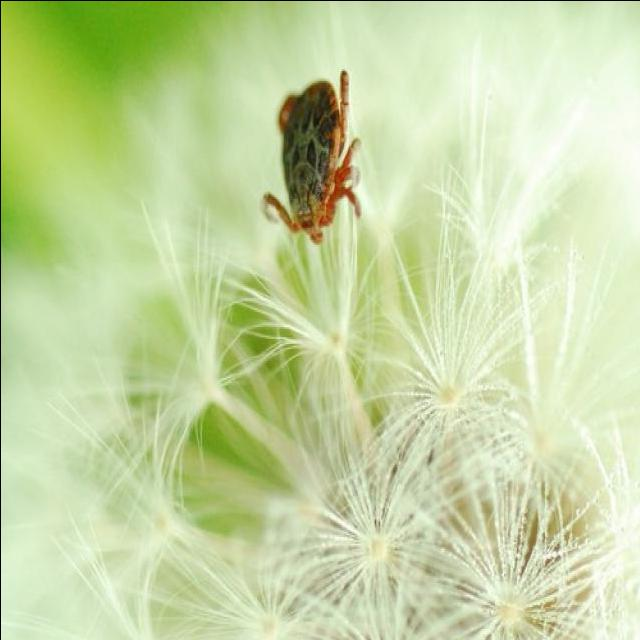Dermacentor Reticulatus-M: (261, 68, 360, 242)
